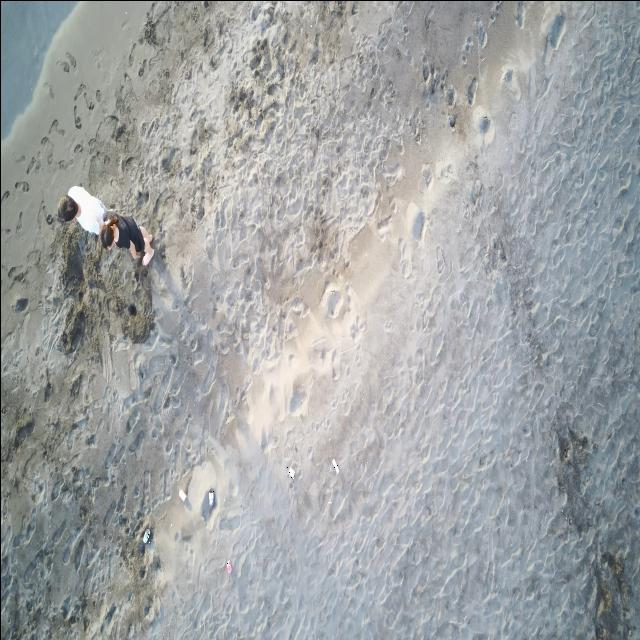Garbage: (141, 527, 151, 543), (224, 560, 232, 573), (179, 488, 186, 502), (208, 487, 212, 507), (332, 459, 338, 472), (286, 467, 292, 477)
